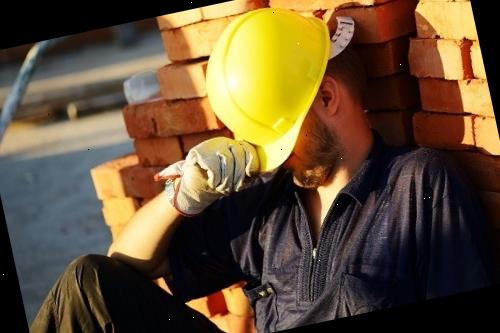helmet: (190, 0, 361, 181)
no_wear: (220, 145, 493, 333)
